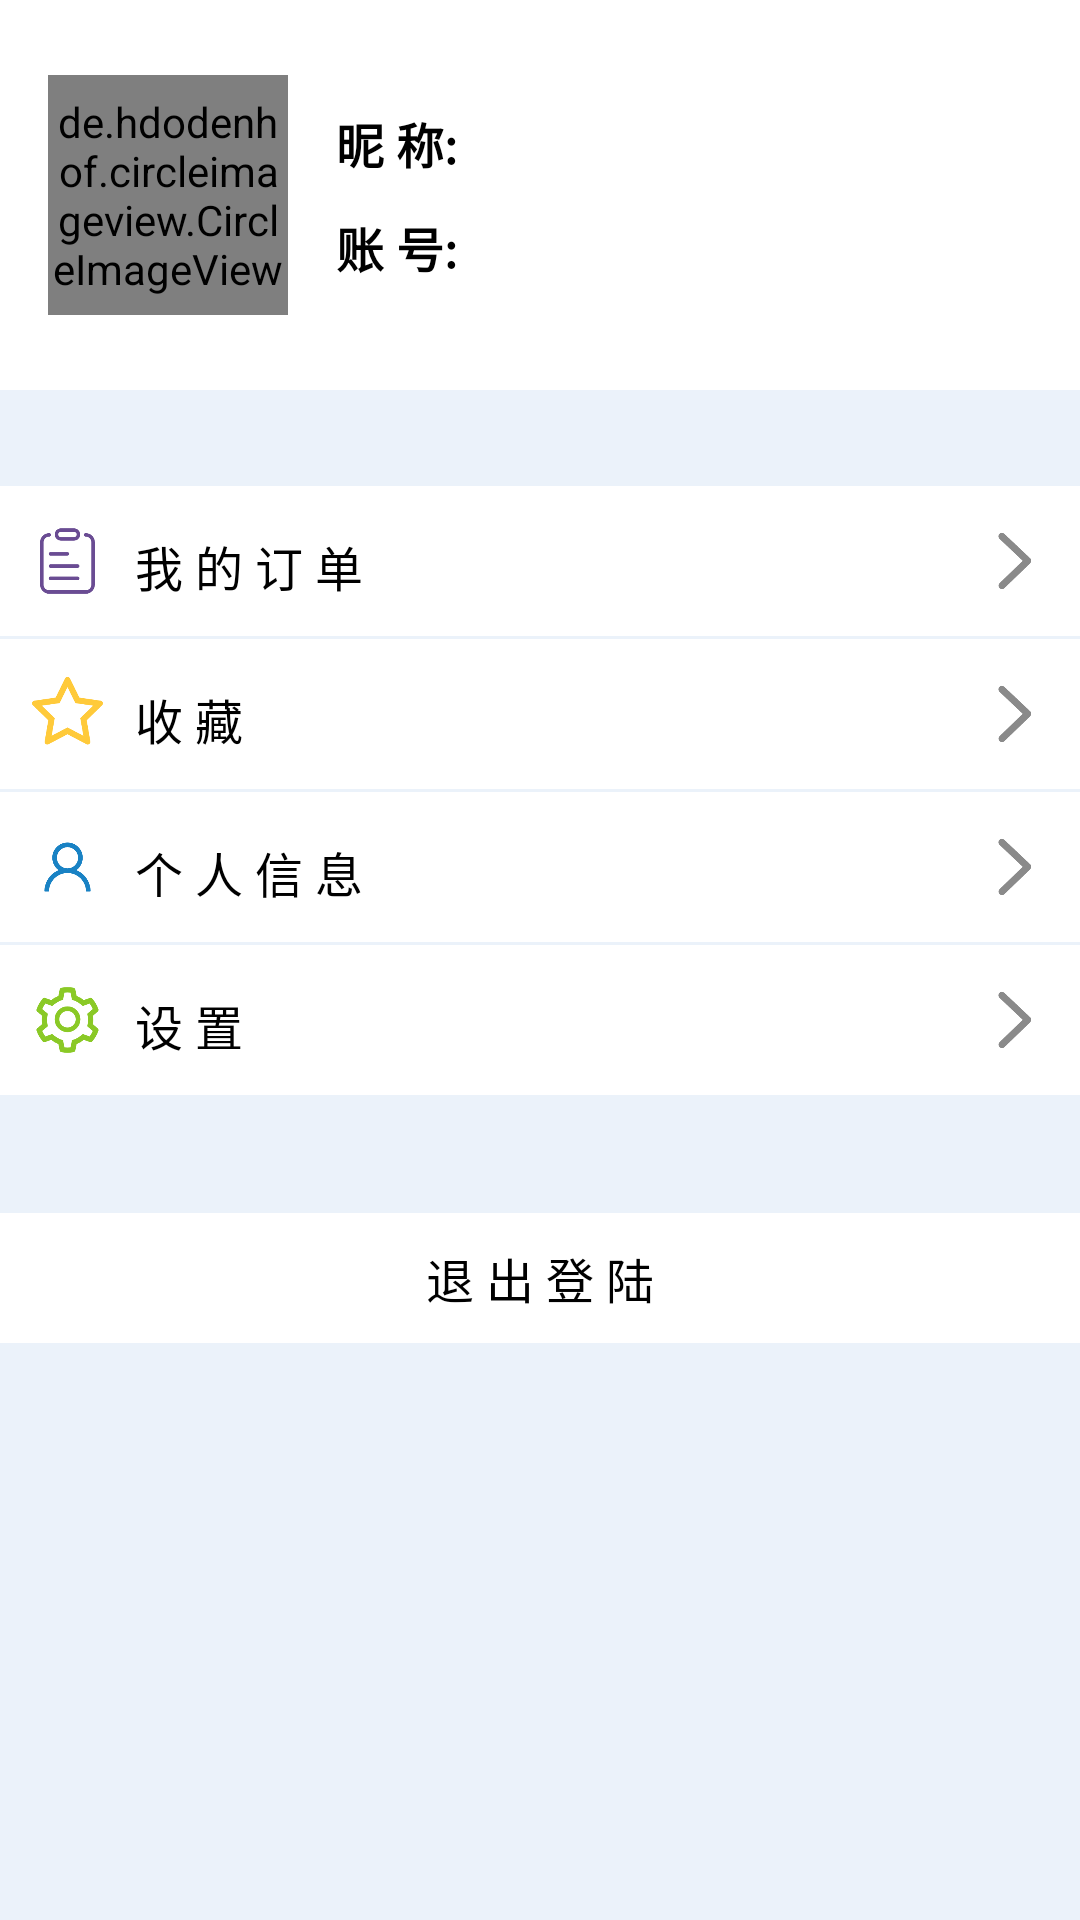

Where to tap for icons on this 1080 × 1920 app screen, as point (x, y):
collection: point (67, 711)
order: point (67, 561)
right: point (1014, 561), point (1014, 714), point (1014, 867), point (1014, 1020)
settings: point (67, 1020)
user myfragment: point (67, 867)
